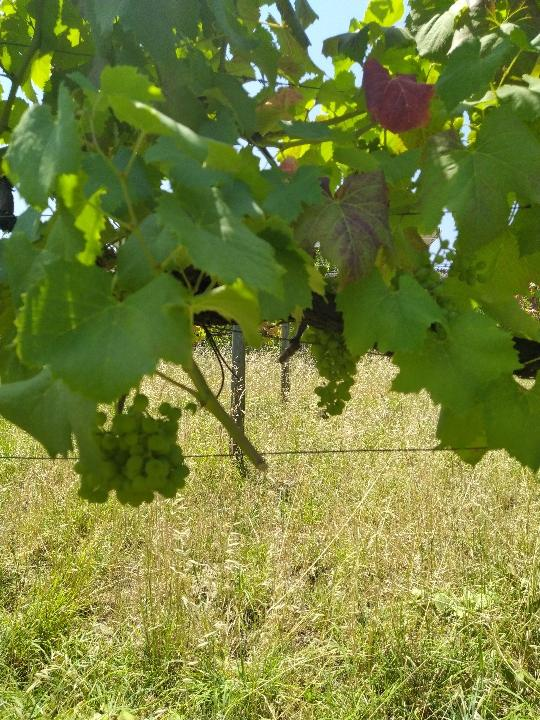grape: (72, 394, 193, 510), (302, 326, 361, 428)
